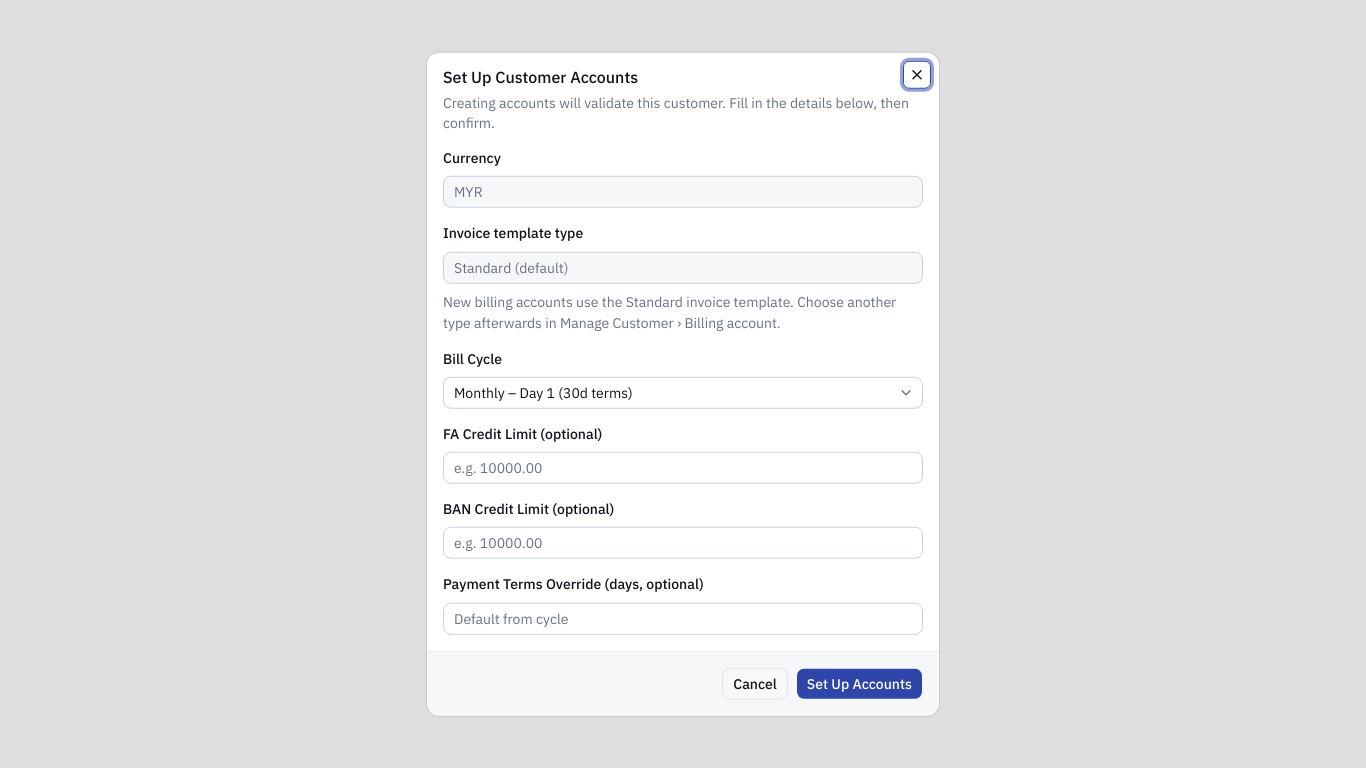
Test: OnboardAccountsWizard — Invoice template type field (cm23) › shows the message for a TEMPLATE_NOT_BINDABLE result
This screenshot has width=1366, height=768.
Expected: the field showing "Standard (default)" is shown, [443,251,923,283]
Click the button "Set Up Accounts" at (859, 683), box [796,667,923,699]
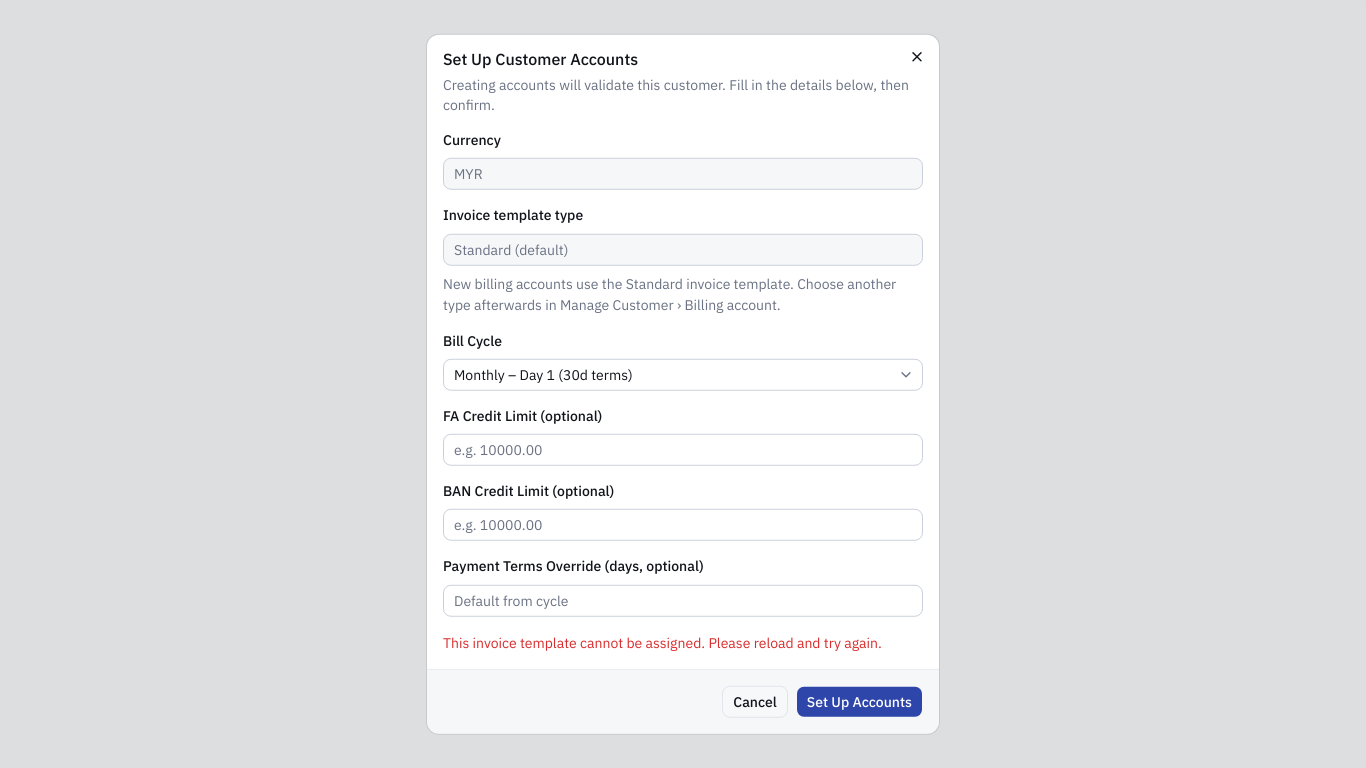
Expected: the text "This invoice template cannot be assigned. Please reload and try again." is shown, [443,632,923,652]
